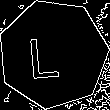L_N: (35, 27, 71, 80)
